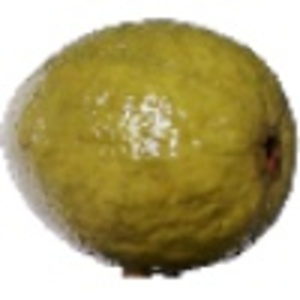goiaba: (5, 16, 295, 284)
